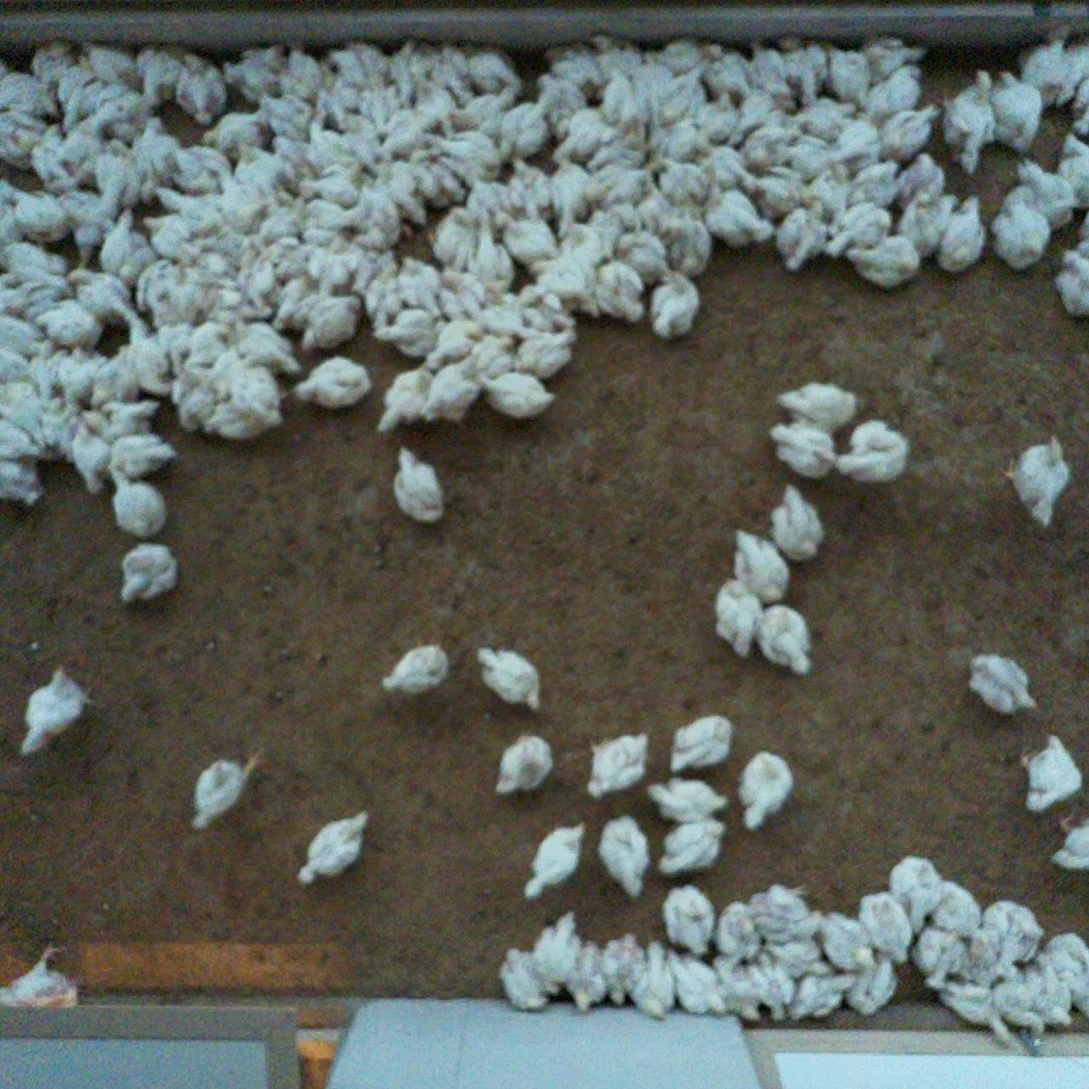chicken: (19, 670, 87, 753), (294, 812, 372, 881), (1018, 733, 1083, 812), (943, 69, 992, 172), (698, 180, 772, 242), (1013, 442, 1070, 522), (3, 943, 78, 1002), (191, 757, 254, 827), (522, 825, 582, 898), (768, 482, 823, 560), (940, 978, 1008, 1041), (934, 875, 987, 954), (994, 185, 1046, 265), (1017, 158, 1079, 225), (380, 357, 436, 431), (427, 356, 485, 427), (777, 377, 856, 429), (984, 893, 1036, 970), (601, 816, 653, 893), (733, 524, 784, 602), (972, 651, 1036, 713), (767, 422, 836, 479), (737, 751, 791, 823), (482, 371, 556, 423), (476, 643, 539, 704), (296, 357, 371, 408), (771, 201, 832, 263), (95, 211, 153, 276), (231, 322, 302, 375), (392, 447, 443, 520), (549, 154, 599, 228), (121, 313, 168, 391), (662, 818, 726, 875), (995, 975, 1046, 1046), (76, 398, 164, 439), (380, 643, 452, 693), (588, 261, 649, 320), (847, 421, 909, 479), (888, 852, 939, 921), (111, 464, 162, 533), (176, 364, 225, 435), (662, 213, 718, 275), (744, 117, 805, 173), (526, 916, 574, 987), (589, 160, 652, 214), (300, 293, 358, 351), (995, 67, 1035, 151), (711, 579, 758, 650), (780, 34, 827, 105), (590, 733, 645, 793), (671, 714, 731, 769), (215, 355, 281, 405), (784, 975, 854, 1022), (713, 961, 765, 1024), (495, 733, 552, 790), (165, 145, 231, 194), (375, 307, 436, 360), (173, 54, 225, 116), (546, 154, 593, 222), (1020, 955, 1069, 1020), (847, 959, 899, 1020), (1046, 928, 1089, 1001), (853, 239, 917, 288), (885, 106, 941, 162), (1, 183, 59, 237), (833, 201, 892, 254), (651, 156, 710, 209), (785, 93, 861, 134), (862, 891, 911, 954), (761, 605, 809, 669), (309, 76, 368, 128), (470, 229, 521, 289), (650, 271, 698, 334), (428, 316, 482, 372), (288, 165, 360, 207), (122, 544, 179, 597), (495, 213, 559, 260), (297, 193, 358, 242), (89, 355, 151, 403), (670, 955, 723, 1011), (175, 262, 214, 338), (633, 941, 673, 1015), (354, 246, 402, 307), (819, 912, 873, 966), (392, 254, 443, 311), (526, 256, 586, 304), (516, 330, 580, 375), (303, 240, 356, 294), (916, 927, 966, 984), (663, 886, 708, 949), (454, 334, 518, 378), (431, 265, 487, 315), (848, 163, 910, 208), (693, 141, 752, 188), (904, 192, 948, 255), (426, 129, 505, 164), (553, 109, 606, 161), (867, 66, 925, 113), (46, 302, 105, 348), (949, 202, 986, 275), (161, 188, 221, 233), (64, 193, 108, 254), (217, 396, 280, 438), (202, 111, 263, 154), (753, 39, 791, 108), (70, 270, 128, 315), (465, 177, 514, 230), (1022, 31, 1060, 99), (4, 248, 64, 291), (529, 79, 590, 121), (253, 91, 311, 135), (273, 276, 322, 328), (500, 103, 548, 156), (430, 203, 473, 262), (353, 185, 399, 240), (198, 290, 272, 324), (506, 164, 550, 221), (97, 149, 140, 207), (827, 47, 870, 105), (830, 119, 888, 162), (648, 114, 705, 157), (617, 227, 666, 277), (482, 290, 533, 338), (707, 43, 747, 104), (1060, 237, 1089, 321), (140, 216, 198, 258), (224, 48, 278, 93), (225, 231, 279, 276), (559, 223, 609, 271), (111, 436, 174, 474), (35, 148, 88, 193), (901, 148, 945, 202), (74, 424, 111, 488), (780, 133, 842, 171), (394, 157, 432, 219), (499, 950, 541, 1006), (184, 322, 235, 368), (861, 36, 921, 75), (713, 907, 757, 960), (541, 44, 599, 84), (139, 259, 179, 316), (1, 69, 49, 116), (334, 44, 386, 87), (766, 941, 833, 974), (649, 113, 698, 158), (736, 83, 787, 126), (409, 83, 455, 130), (231, 260, 279, 305), (311, 122, 354, 172), (140, 45, 174, 107), (1061, 128, 1089, 203), (430, 146, 482, 186), (43, 396, 76, 459), (1058, 36, 1089, 103), (602, 937, 636, 998), (277, 235, 322, 281), (256, 190, 300, 237), (202, 249, 244, 298), (380, 44, 416, 101), (475, 43, 516, 93), (344, 116, 383, 168), (1, 465, 51, 505), (801, 168, 850, 208), (605, 66, 639, 123), (65, 352, 102, 404), (139, 118, 176, 170), (216, 193, 265, 232), (379, 109, 423, 152), (454, 90, 498, 133), (283, 50, 324, 96), (752, 883, 807, 916), (662, 71, 700, 117), (591, 40, 633, 81), (760, 962, 790, 1019), (1058, 812, 1089, 867), (235, 161, 282, 197), (442, 39, 470, 99), (32, 346, 62, 401), (638, 59, 669, 112), (576, 944, 601, 1009), (1, 424, 47, 459), (61, 74, 99, 116), (279, 135, 317, 177), (750, 910, 819, 933), (83, 43, 131, 76), (652, 38, 704, 68), (2, 318, 45, 354), (702, 94, 735, 140), (1, 119, 34, 164), (1, 381, 37, 422), (31, 48, 80, 77), (69, 122, 102, 164), (361, 88, 398, 124), (1, 286, 43, 316), (103, 87, 139, 117), (1, 353, 30, 381), (3, 210, 20, 248), (418, 48, 436, 73)
